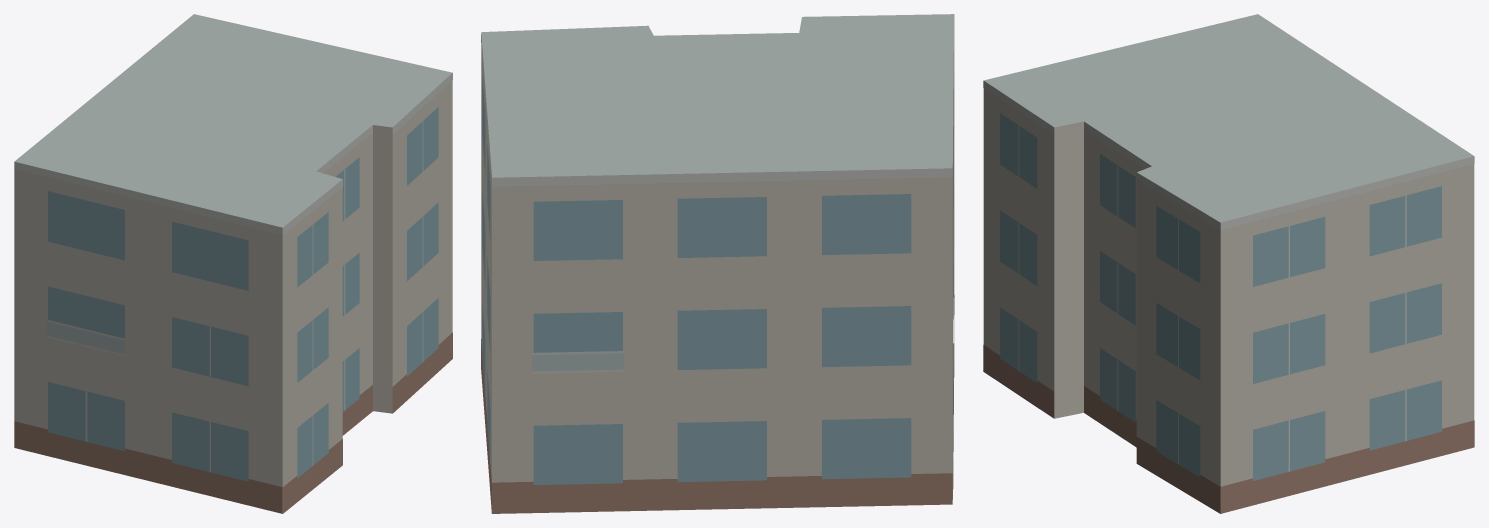
Rendered from survey-upis-32685088.glb.
3 renders of one model, left to right at view 1: azimuth 30°, elevation 25°; view 2: azimuth 150°, elevation 25°; view 3: azimuth 270°, elevation 25°, orthographic. The views are drawn at different scales.
Parts seen in each view (by area): view 1: survey-upis-32685088.tmp; view 2: survey-upis-32685088.tmp; view 3: survey-upis-32685088.tmp.
Part boxes in pixels (x1,y1,x2,y2): survey-upis-32685088.tmp: [14, 14, 452, 513]; survey-upis-32685088.tmp: [481, 14, 954, 513]; survey-upis-32685088.tmp: [983, 14, 1474, 513].
Size of the model in its own units: 14.21 by 9.25 by 14.14.
